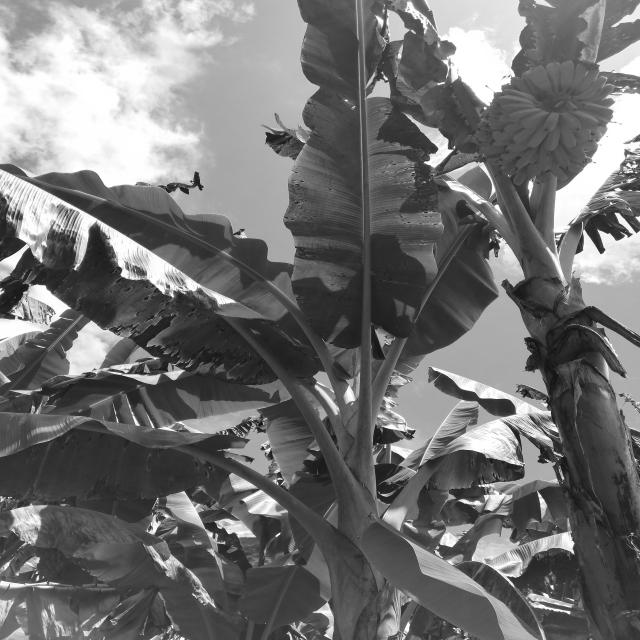Banana-plant: (472, 204, 640, 640), (306, 421, 424, 640)
